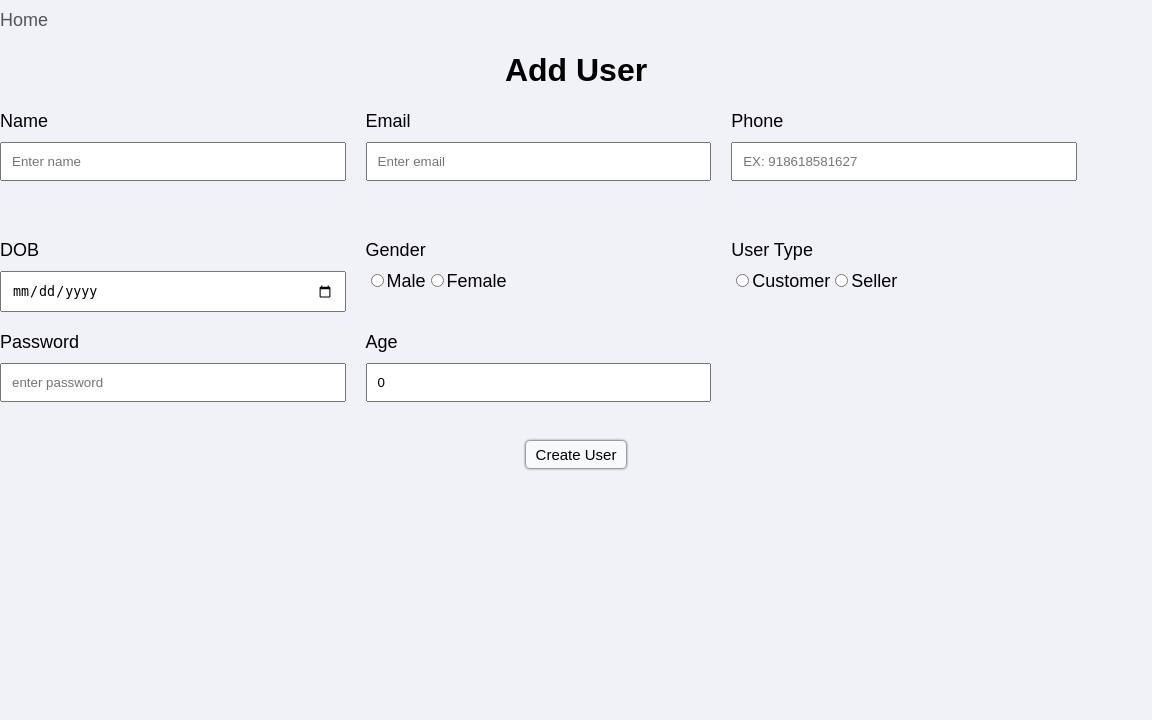
Test: Admin Add User Page › creates user successfully
Type "Shivanand" into the field with placeholder "Enter name" at (173, 161), box [0, 142, 346, 181]
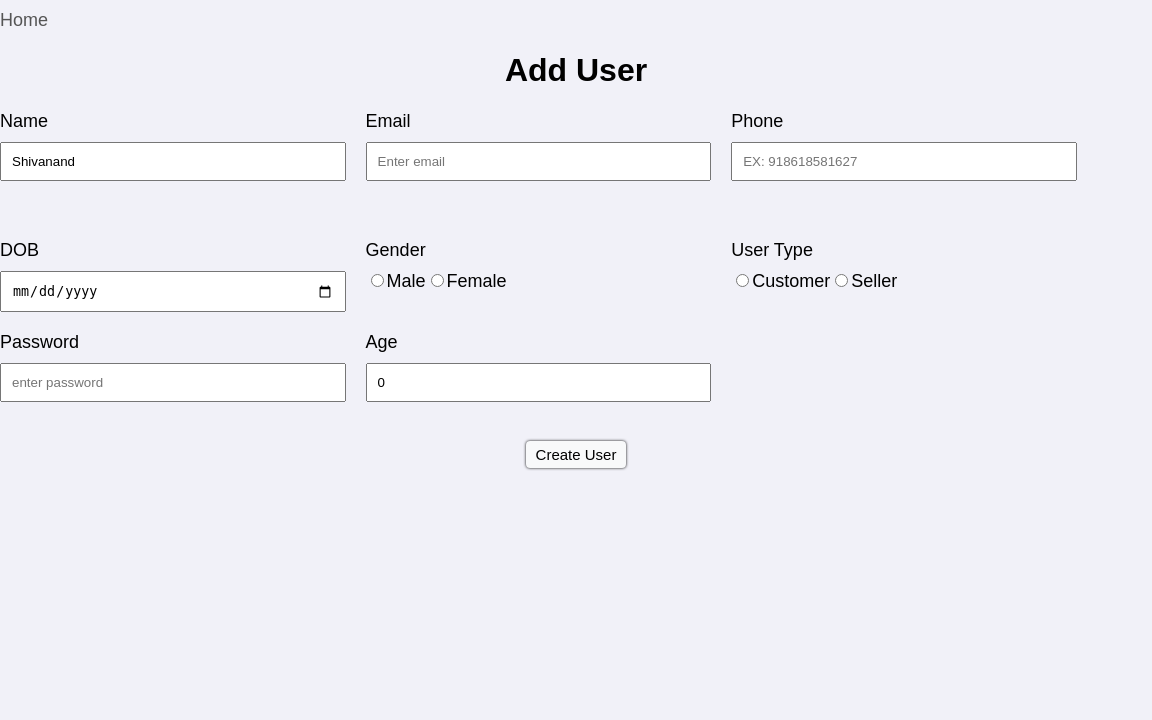
Type "test@gmail.com" into the field with placeholder "Enter email" at (538, 161), box [366, 142, 711, 181]
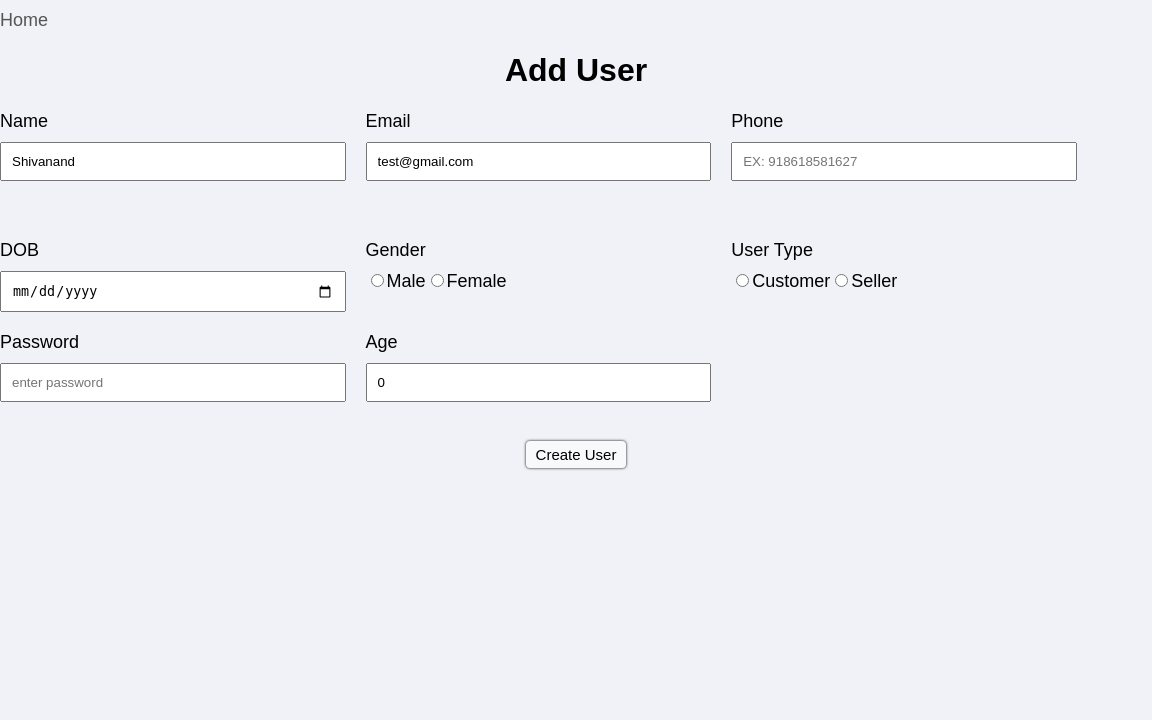
Type "Shivu@1234" into the password field labelled "Password" at (173, 383), box [0, 363, 346, 402]
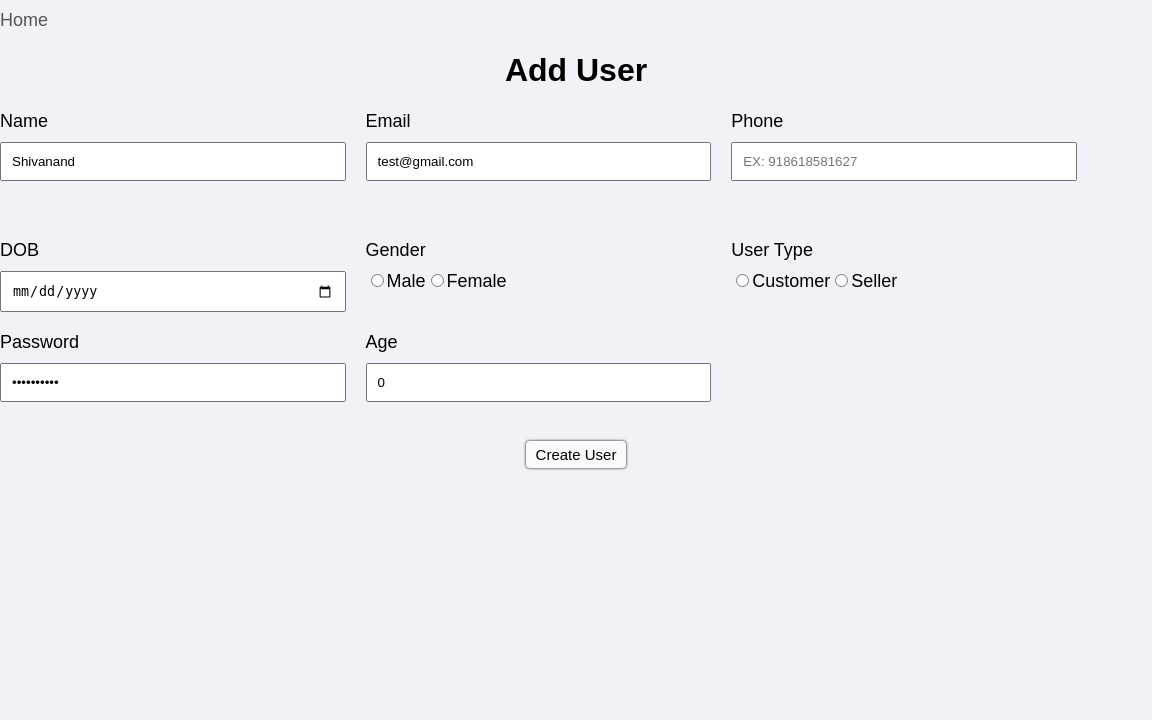
Click the button "Create User" at (576, 455), box [526, 441, 626, 468]
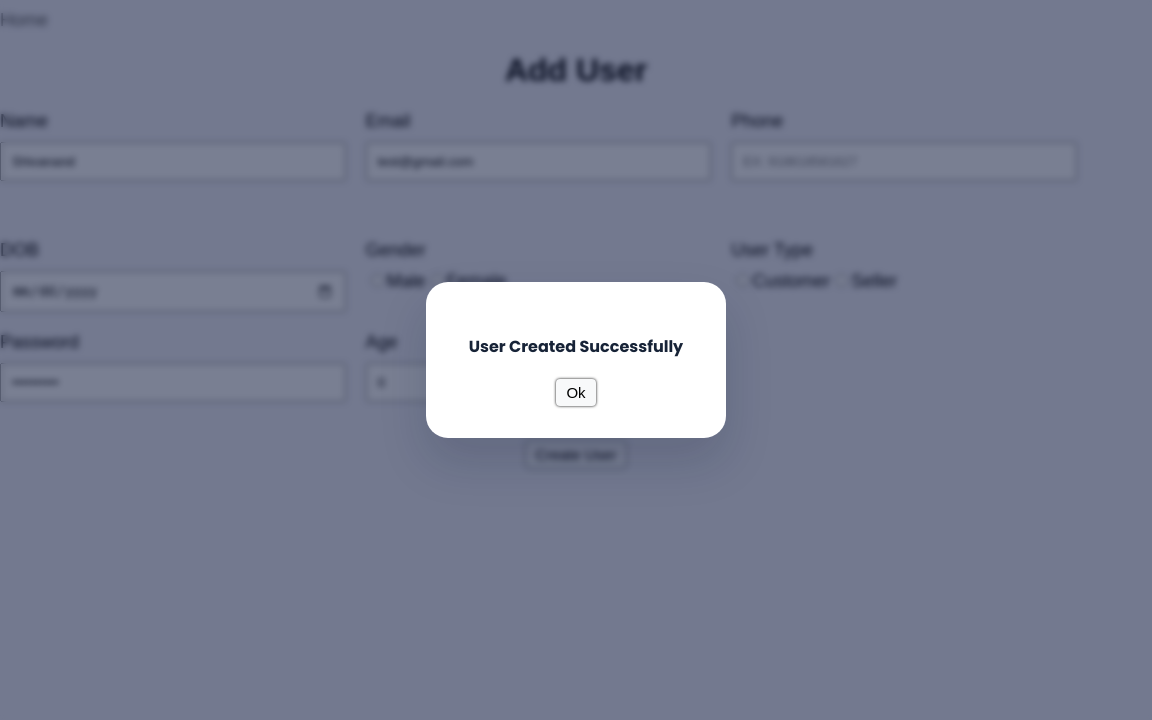
Expected: the heading "User Created Successfully" is shown, [458, 335, 694, 359]
